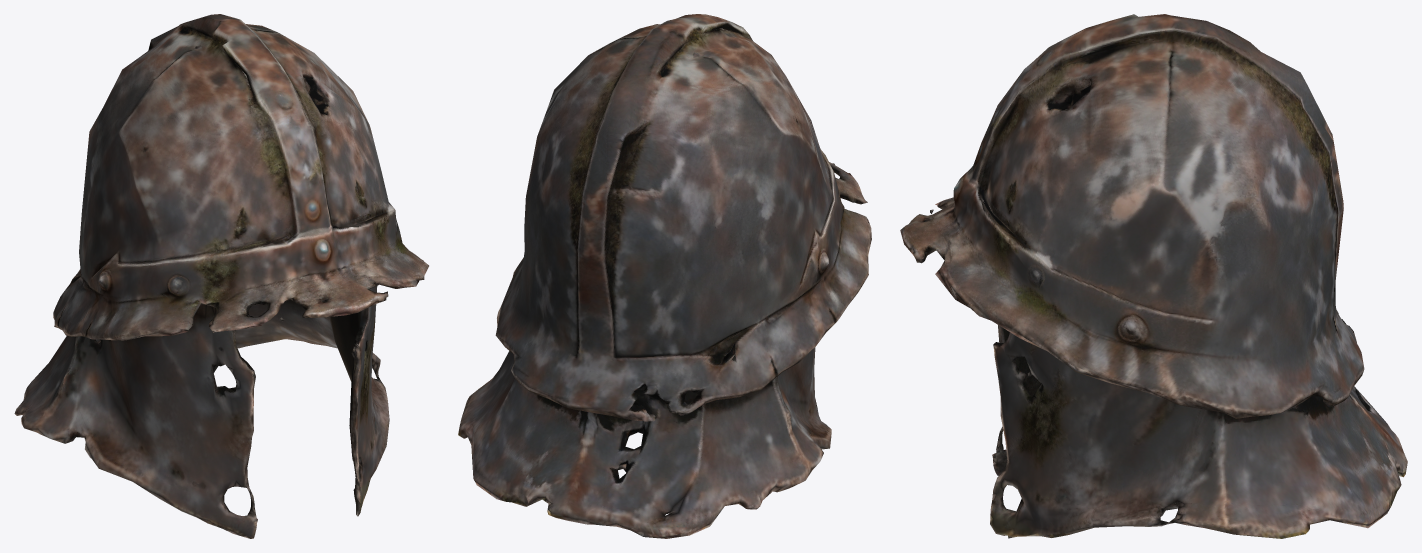
The model's file is helmet.glb.
3 views of the same model, side by side, from view 1: azimuth 30°, elevation 25°; view 2: azimuth 150°, elevation 25°; view 3: azimuth 270°, elevation 25° (orthographic). The views are drawn at different scales.
Size of the model in its own units: 1.58 by 2 by 1.88.
1 material, 1 textured.
